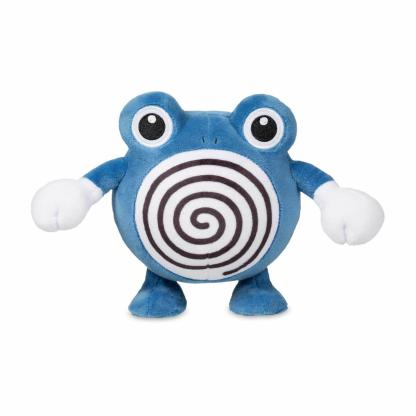Poliwhirl: (20, 79, 385, 338)
